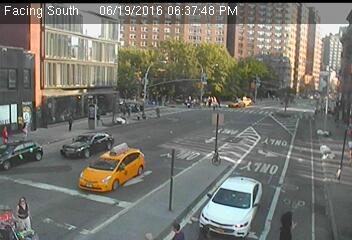neg: (322, 169, 343, 197), (274, 112, 287, 129), (293, 112, 305, 129), (172, 110, 183, 124), (161, 108, 170, 121)
pos: (10, 191, 37, 228), (62, 112, 80, 135), (18, 120, 34, 142)
